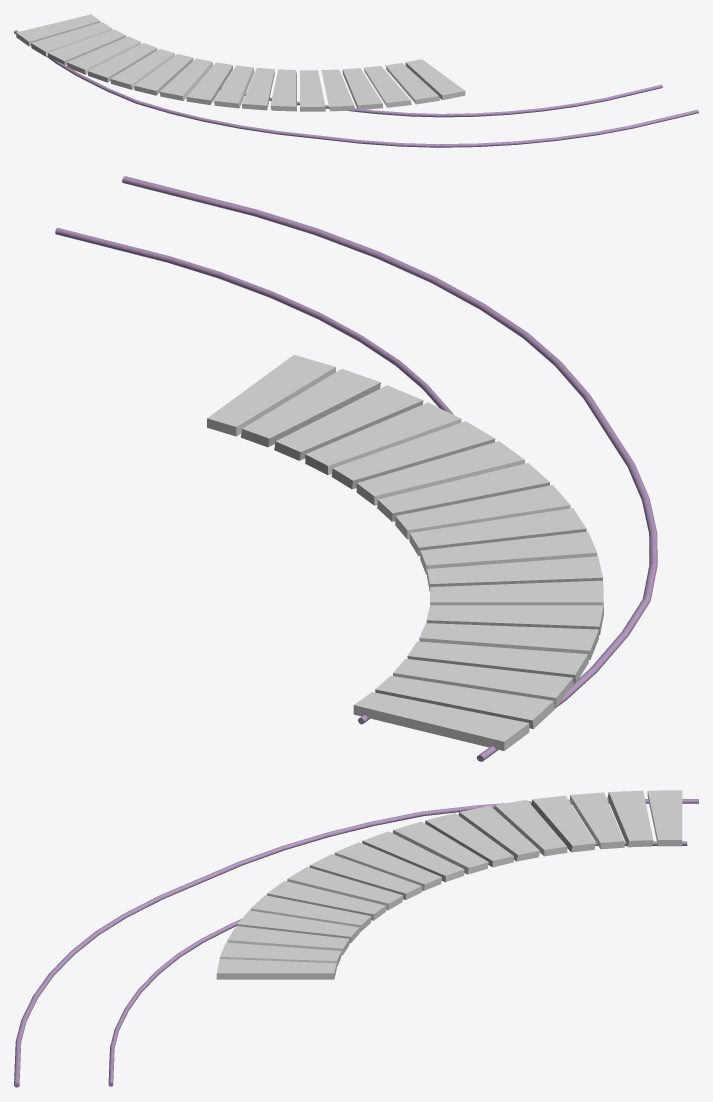
Rendered from CurvedBridge.fbx.
The picture shows the model from 3 angles, top to bottom: view 1: azimuth 30°, elevation 25°; view 2: azimuth 150°, elevation 25°; view 3: azimuth 270°, elevation 25°; orthographic projection. The views are drawn at different scales.
Visible parts, largest first — view 1: Cube.007, Cube.005, Cube.002, Cube.017, Cube.006, Cube.008, Cube.004, Cube.015, Cube.001, Cube.016, Cube.019, Cube (+7 smaller); view 2: Cube.007, Cube, Cube.019, Cube.009, Cube.017, Cube.012, Cube.011, Cube.001, Cube.008, Cube.010, Cube.016, Cube.003 (+7 smaller); view 3: Cube.007, Cube.017, Cube.005, Cube.002, Cube.014, Cube.006, Cube.008, Cube.004, Cube.016, Cube.011, Cube.015, Cube.013 (+7 smaller).
Boxes of the visible parts, x1,y1,x2,y2 form: Cube.007: (14, 30, 698, 147); Cube.005: (159, 58, 213, 100); Cube.002: (67, 36, 140, 74); Cube.017: (405, 59, 465, 99); Cube.006: (110, 49, 174, 89); Cube.008: (88, 43, 157, 82); Cube.004: (134, 54, 193, 95); Cube.015: (214, 65, 254, 108); Cube.001: (31, 22, 112, 56); Cube.016: (186, 62, 232, 104); Cube.019: (385, 63, 439, 104); Cube: (16, 14, 100, 46); Cube.007: (55, 176, 657, 761); Cube: (353, 692, 529, 750); Cube.019: (240, 369, 380, 447); Cube.009: (356, 441, 524, 505); Cube.017: (207, 355, 335, 436); Cube.012: (305, 402, 461, 475); Cube.011: (274, 385, 423, 460); Cube.001: (375, 675, 554, 728); Cube.008: (419, 623, 598, 659); Cube.010: (331, 421, 495, 489); Cube.016: (420, 531, 597, 574); Cube.003: (393, 658, 573, 707); Cube.007: (14, 799, 698, 1087); Cube.017: (216, 959, 336, 979); Cube.005: (392, 821, 488, 874); Cube.002: (531, 795, 595, 852); Cube.014: (287, 867, 403, 910); Cube.006: (458, 806, 539, 861); Cube.008: (494, 800, 567, 856); Cube.004: (425, 813, 513, 867); Cube.016: (362, 831, 464, 882); Cube.011: (227, 926, 349, 955); Cube.015: (334, 842, 441, 890); Cube.013: (309, 854, 421, 899).
Size of the model in its own units: 232 by 3.49 by 233.
